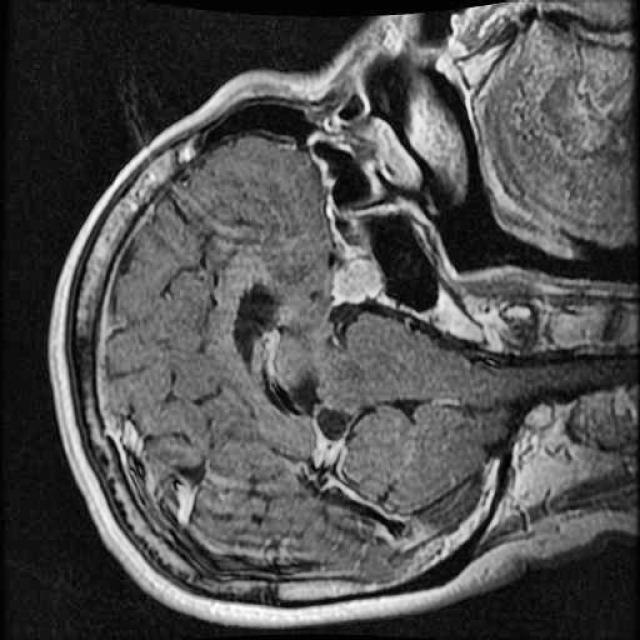Tumor: (322, 255, 390, 308)
